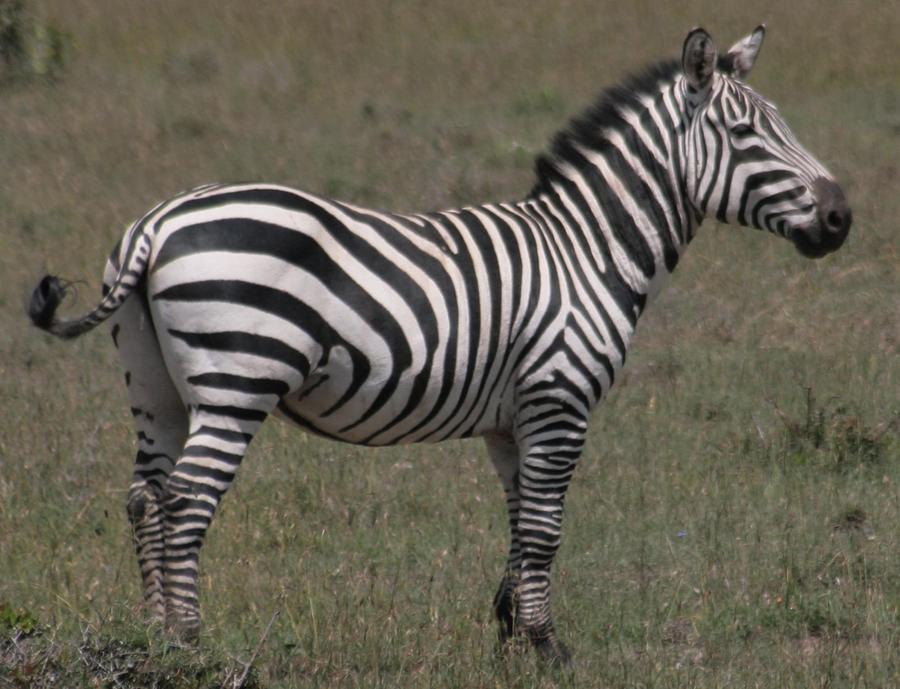zebra_plains: (140, 159, 649, 469)
